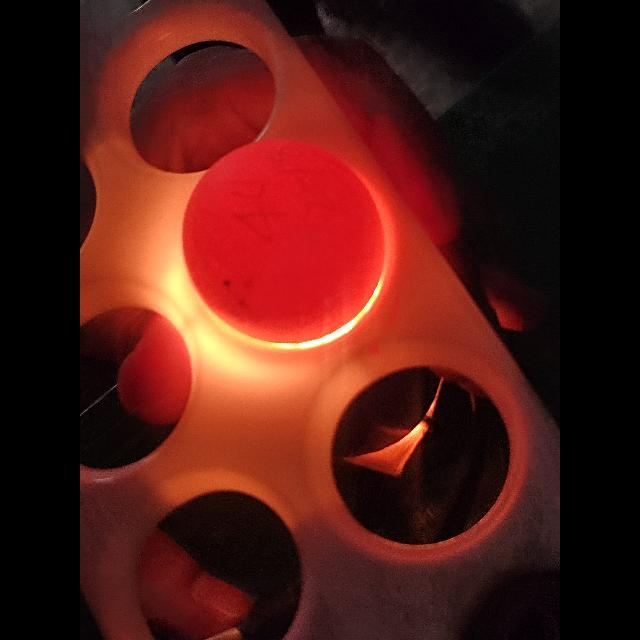Infertile: (194, 146, 380, 334)
